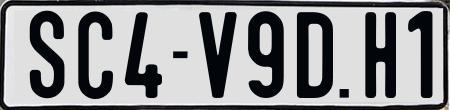1: (406, 8, 435, 95)
4: (122, 11, 160, 98)
9: (247, 11, 287, 101)
C: (76, 11, 113, 104)
D: (296, 9, 335, 100)
H: (364, 9, 401, 100)
S: (27, 9, 67, 97)
V: (197, 11, 237, 101)
